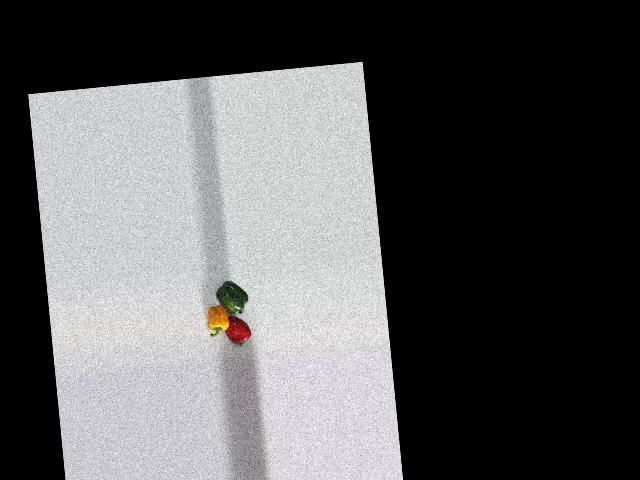bell_pepper: (203, 303, 234, 337)
